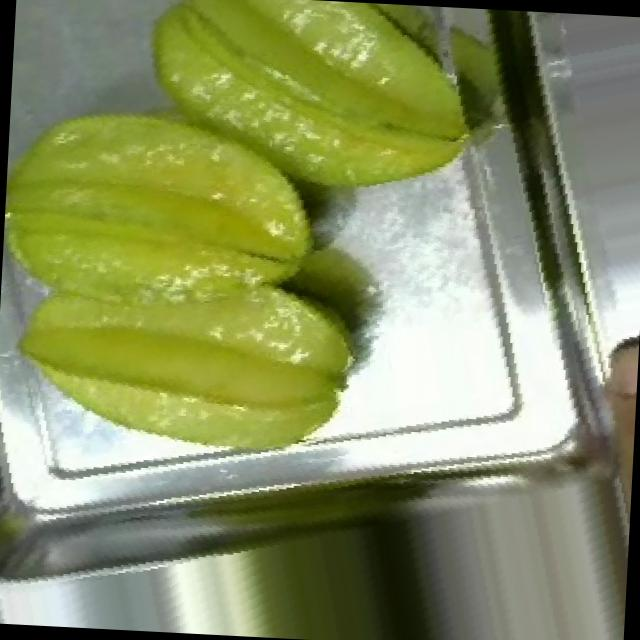fruit: (0, 126, 391, 519), (118, 0, 500, 256)
